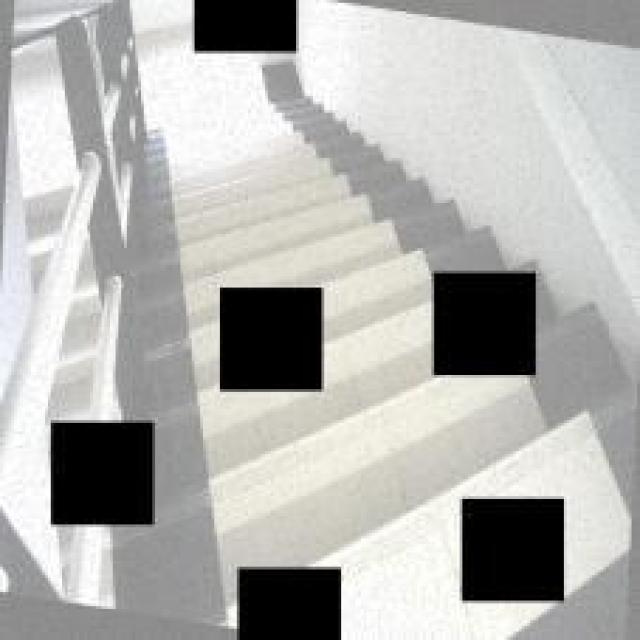downstair: (156, 153, 399, 280)
